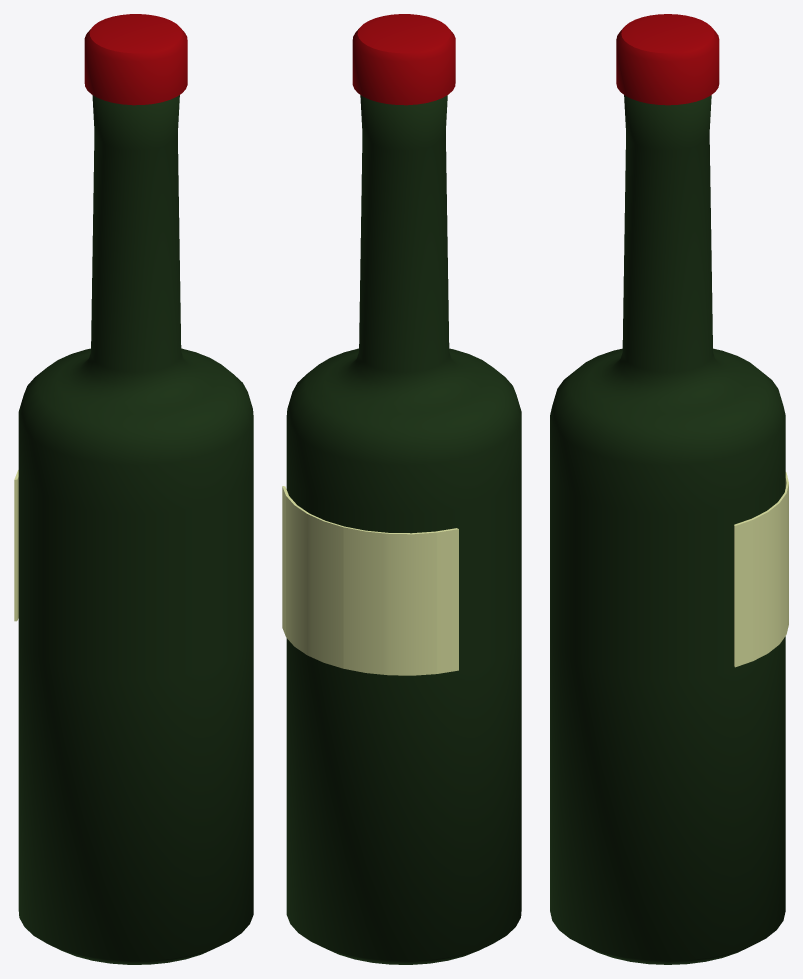
File: bottle.fbx
3 renders of one model, left to right at view 1: azimuth 30°, elevation 25°; view 2: azimuth 150°, elevation 25°; view 3: azimuth 270°, elevation 25°, orthographic.
Parts seen in each view (by area): view 1: Cylinder, Cylinder.001, Plane; view 2: Cylinder, Plane, Cylinder.001; view 3: Cylinder, Cylinder.001, Plane.
Boxes of the visible parts, x1,y1,x2,y2 form: Cylinder: [18, 95, 253, 964]; Cylinder.001: [84, 14, 187, 105]; Plane: [14, 470, 18, 621]; Cylinder: [286, 95, 521, 964]; Plane: [282, 486, 458, 675]; Cylinder.001: [352, 14, 455, 105]; Cylinder: [550, 95, 785, 964]; Cylinder.001: [616, 14, 719, 105]; Plane: [734, 472, 788, 667].
Bounding box in the file's own units: 200 × 835 × 203.
